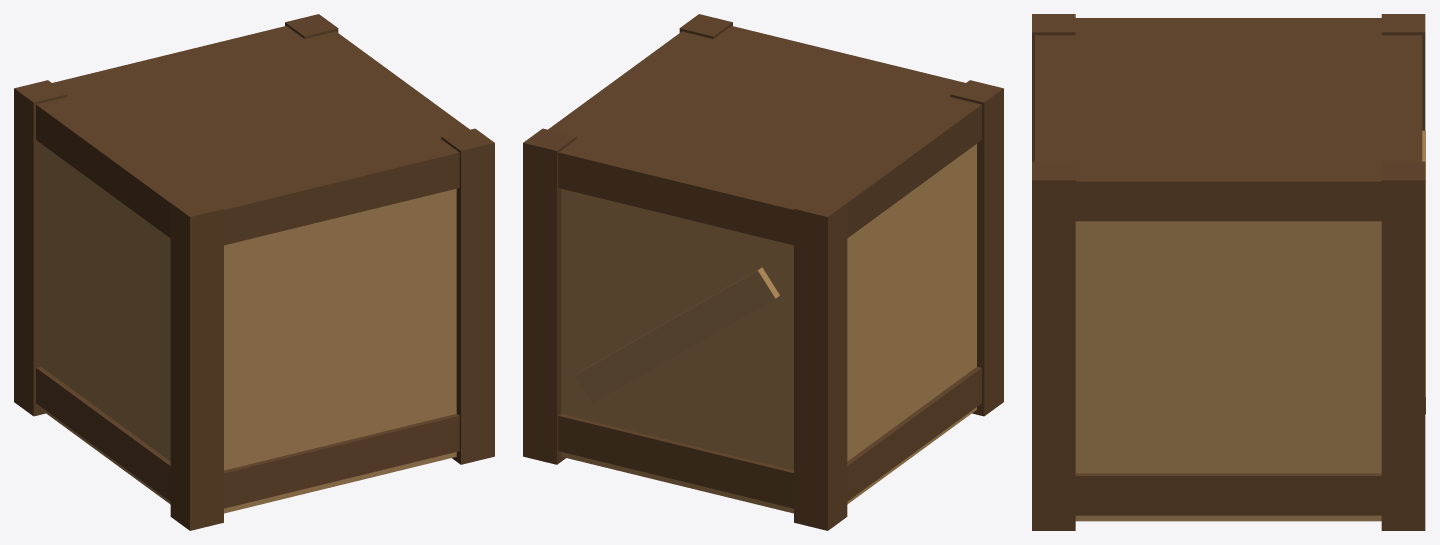
The model's file is Scatter_Crate.fbx.
3 renders of one model, left to right at view 1: azimuth 30°, elevation 25°; view 2: azimuth 150°, elevation 25°; view 3: azimuth 270°, elevation 25°, orthographic. The views are drawn at different scales.
Visible parts, largest first — view 1: Crate; view 2: Crate; view 3: Crate.
Boxes of the visible parts, left/top/right/bottom form: Crate: left=14, top=14, right=494, bottom=530; Crate: left=523, top=14, right=1003, bottom=530; Crate: left=1032, top=14, right=1425, bottom=530.
Bounding box in the file's own units: 3.15 × 3.1 × 3.16.
